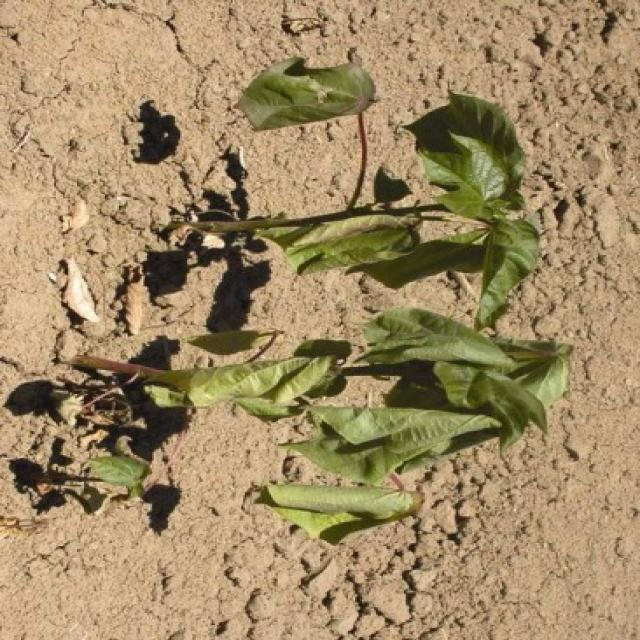Fusarium Wilt: (146, 38, 577, 570)
